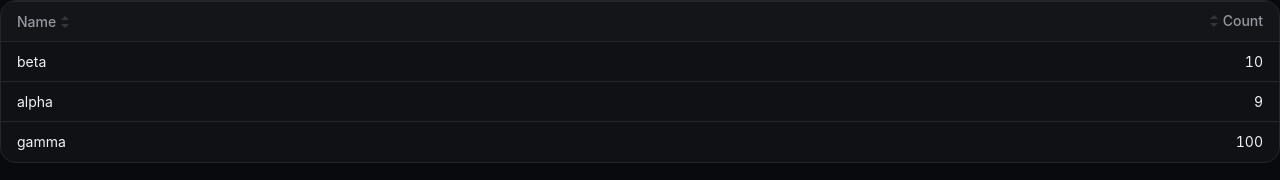
Test: DataTable › cycles ascending, descending and original order
The image size is (1280, 180).
Later steps or results of the test are not shown.
Step 1. Click the button "Name" → click(44, 22), box [17,12,70,32]
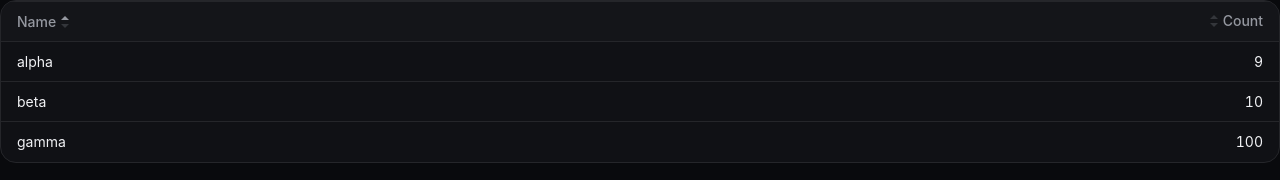
Step 2. Click the button "Name" → click(44, 22), box [17,12,70,32]
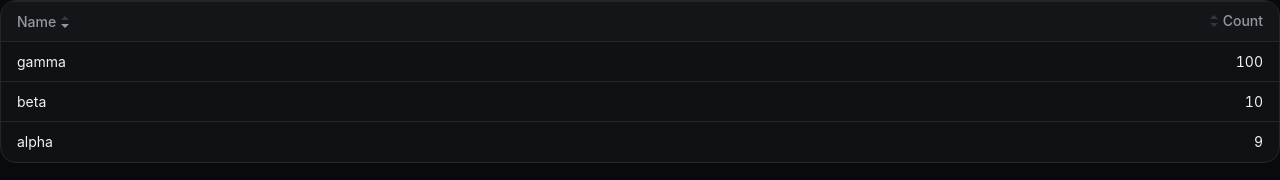
Check: the column heading "Name" has attribute aria-sort="descending", box [1,2,636,42]
